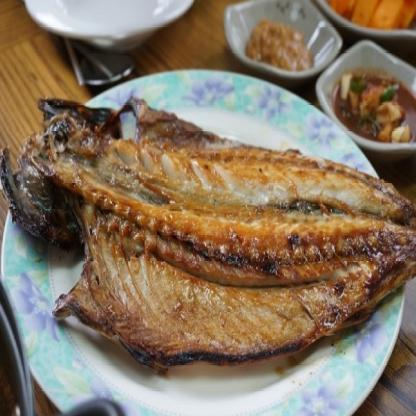Peixe: (4, 94, 416, 359)
